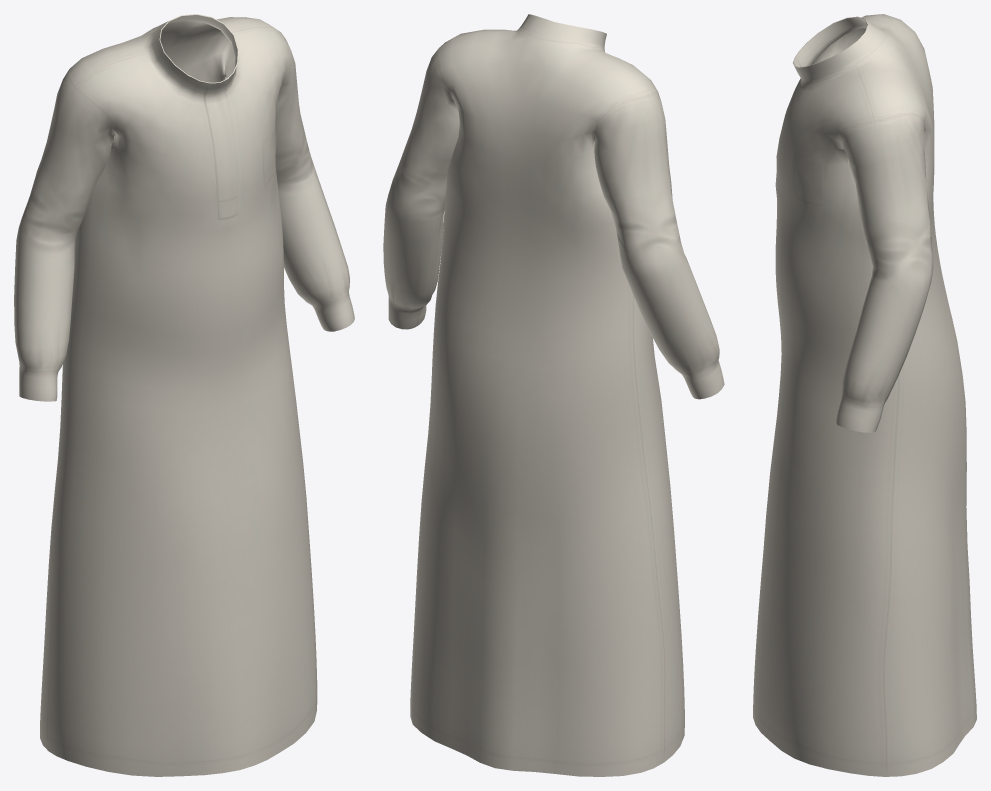
File: glabya_Boy.fbx
The picture shows the model from 3 angles, left to right: view 1: azimuth 30°, elevation 25°; view 2: azimuth 150°, elevation 25°; view 3: azimuth 270°, elevation 25°; orthographic projection. The views are drawn at different scales.
Visible parts, largest first — view 1: glabya_Boy; view 2: glabya_Boy; view 3: glabya_Boy.
Part boxes in pixels (<box>): glabya_Boy: <box>14,14,354,776</box>; glabya_Boy: <box>383,14,724,776</box>; glabya_Boy: <box>753,14,976,776</box>.
Bounding box in the file's own units: 0.3294 × 0.6776 × 0.198.
